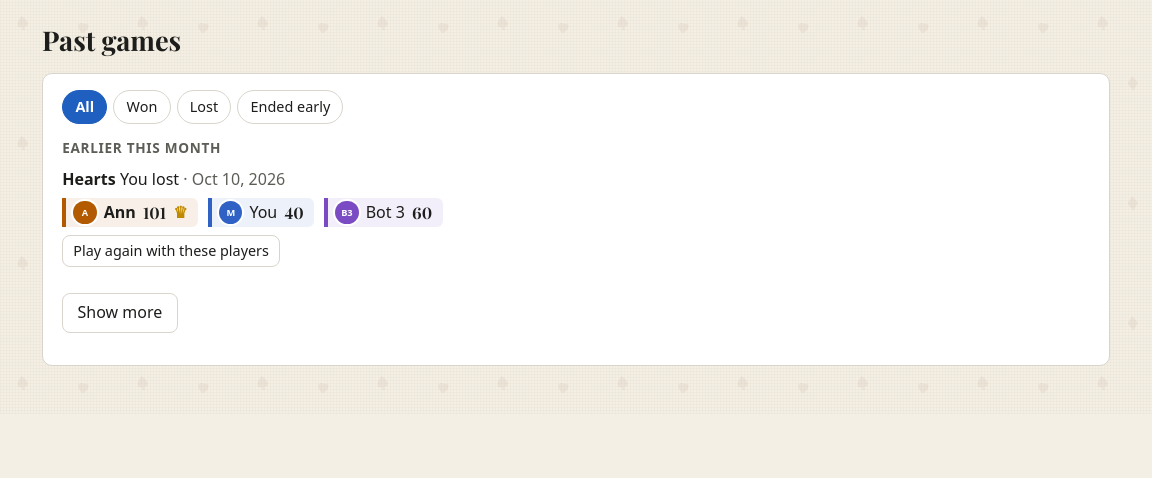
Test: Past games › loads older games on request
The image size is (1152, 478).
Expected: the link "Hearts You lost · Oct 10, 2026" is shown, [62,168,285,190]
Click the button "Show more" at (120, 313), box [62,293,178,333]
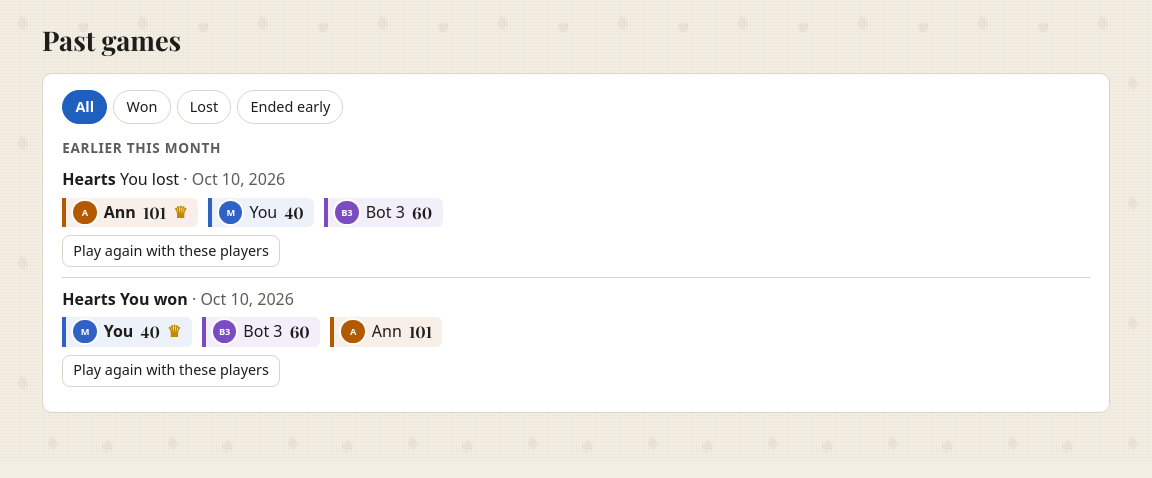
Now the link "Hearts You won · Oct 10, 2026" is shown, box [62,288,294,310]
Now the number of links is 2, box [62,168,285,190]; [62,288,294,310]
Now the button "Show more" is gone
